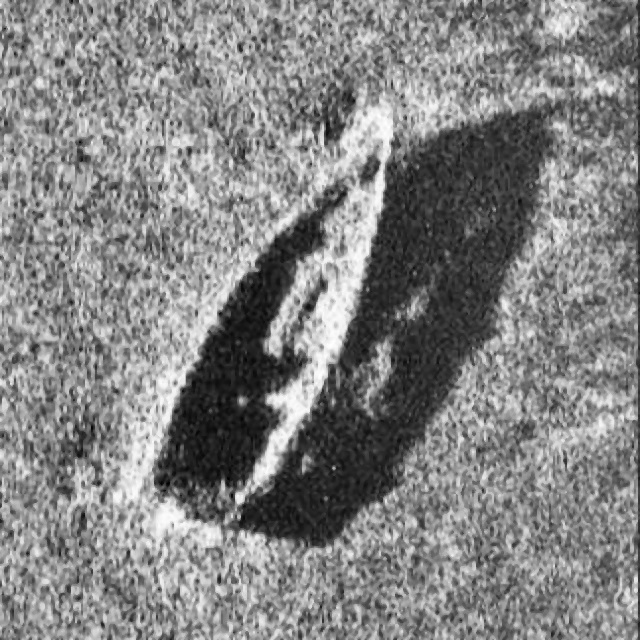Ship: (132, 106, 411, 534)
